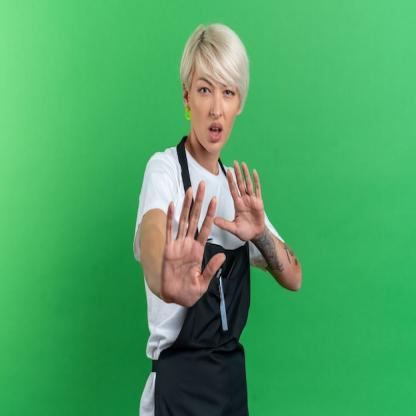stop: (160, 178, 228, 312), (214, 158, 270, 242)
